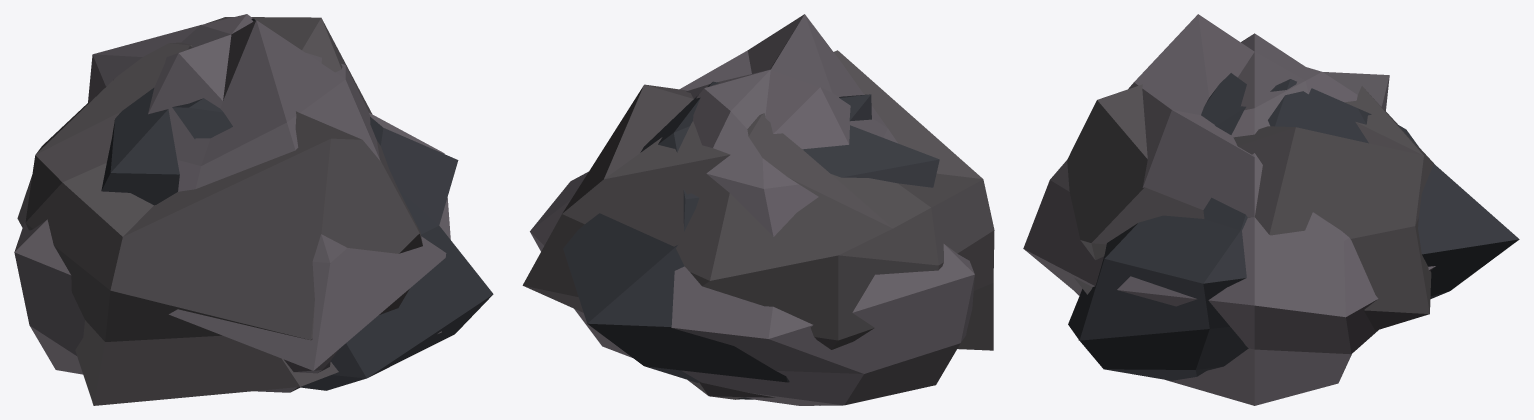
File: stones.fbx
The picture shows the model from 3 angles, left to right: view 1: azimuth 30°, elevation 25°; view 2: azimuth 150°, elevation 25°; view 3: azimuth 270°, elevation 25°; orthographic projection. The views are drawn at different scales.
Parts seen in each view (by area): view 1: stone_2, stone_1, stone_3; view 2: stone_2, stone_1, stone_3; view 3: stone_1, stone_2, stone_3.
Part boxes in pixels (box(x1,y1,x2,y2)): stone_2: box(17, 17, 441, 405); stone_1: box(14, 14, 450, 392); stone_3: box(101, 18, 493, 390); stone_2: box(522, 50, 994, 399); stone_1: box(530, 14, 974, 405); stone_3: box(563, 81, 939, 399); stone_1: box(1023, 14, 1435, 405); stone_2: box(1067, 84, 1433, 342); stone_3: box(1068, 73, 1519, 380).
Bounding box in the file's own units: 125 × 105 × 136.
1 material, 1 textured.
